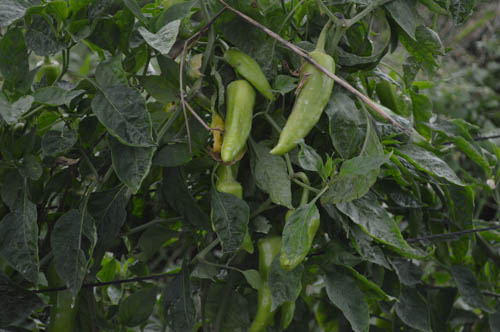ChiliPepper: (266, 43, 337, 158), (251, 231, 292, 332), (212, 177, 263, 258), (218, 77, 261, 167), (40, 257, 85, 332), (220, 46, 279, 101), (28, 55, 65, 94), (374, 74, 406, 116)
